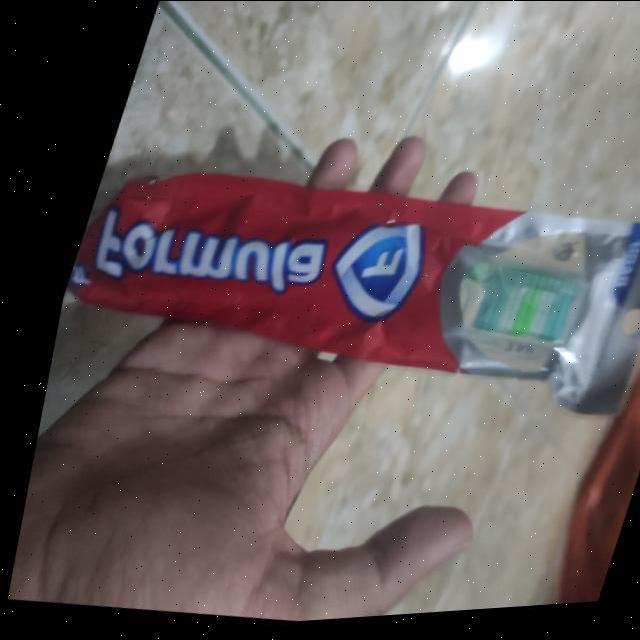toothbrush: (98, 210, 585, 356)
